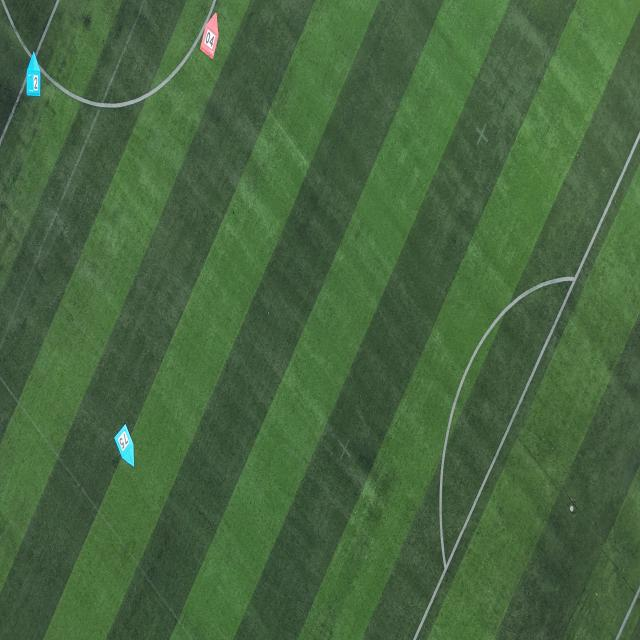board: (200, 11, 219, 60), (113, 423, 134, 467), (26, 50, 41, 96)
